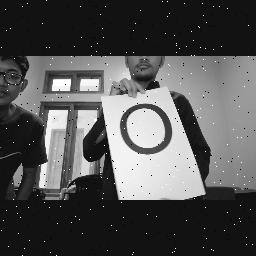o: (114, 94, 180, 162)
